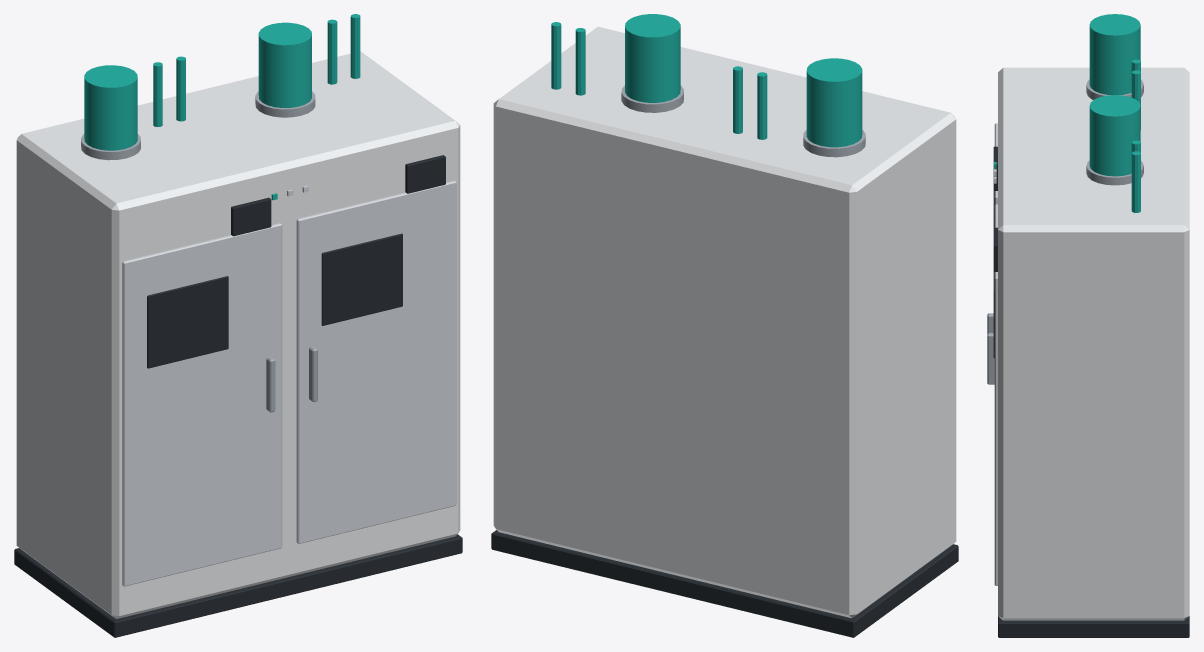
Rendered from bsgs-cabinet.glb.
3 views of the same model, side by side, from view 1: azimuth 30°, elevation 25°; view 2: azimuth 150°, elevation 25°; view 3: azimuth 270°, elevation 25° (orthographic). The views are drawn at different scales.
Visible parts, largest first — view 1: bsgs-cabinet; view 2: bsgs-cabinet; view 3: bsgs-cabinet.
Boxes of the visible parts, x1,y1,x2,y2 form: bsgs-cabinet: (14,14,462,637); bsgs-cabinet: (491,14,958,637); bsgs-cabinet: (987,14,1189,637).
Bounding box in the file's own units: 1.8 × 2.48 × 0.95.
